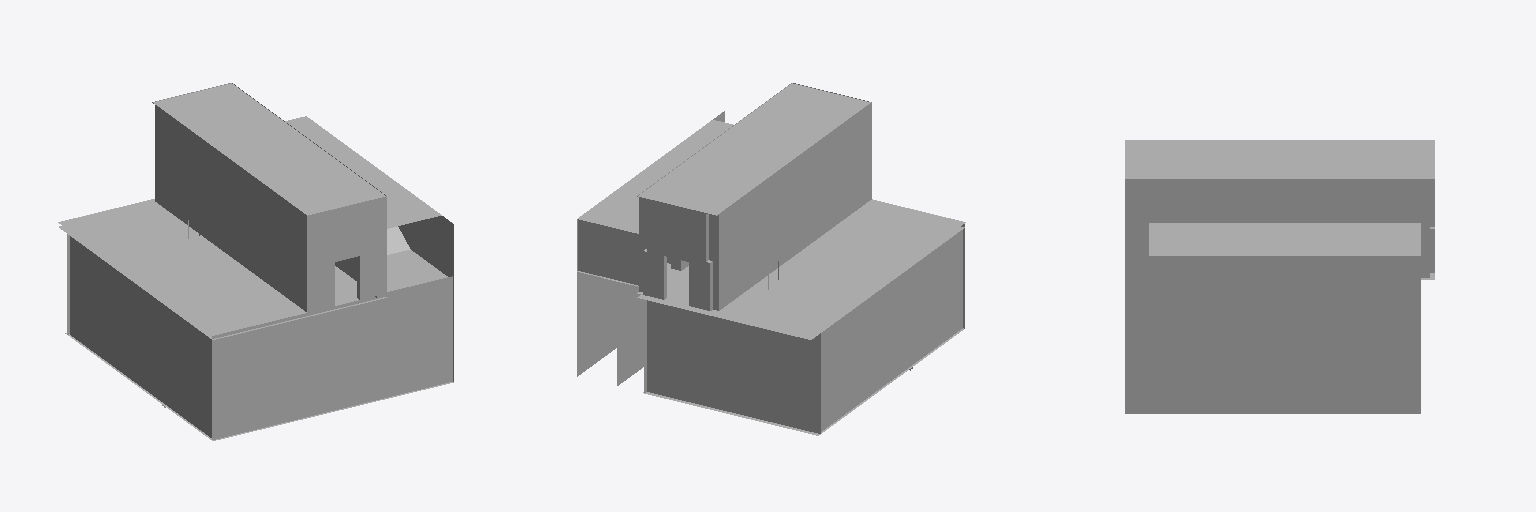
File: LC_cont2_012.obj
The picture shows the model from 3 angles: view 1: azimuth 30°, elevation 25°; view 2: azimuth 150°, elevation 25°; view 3: azimuth 270°, elevation 25°; orthographic projection.
Parts seen in each view (by area): view 1: grp3, grp1, grp11, grp15; view 2: grp3, grp1, grp11, grp4, grp15; view 3: grp3, grp1, grp11.
Part boxes in pixels (left/top/right/bottom): grp3: left=59, top=216, right=453, bottom=439; grp1: left=58, top=83, right=447, bottom=335; grp11: left=155, top=86, right=386, bottom=312; grp15: left=65, top=333, right=453, bottom=440; grp3: left=577, top=111, right=964, bottom=433; grp1: left=577, top=83, right=965, bottom=335; grp11: left=639, top=84, right=871, bottom=310; grp4: left=578, top=219, right=912, bottom=368; grp15: left=643, top=328, right=963, bottom=435; grp3: left=1125, top=256, right=1434, bottom=413; grp1: left=1125, top=140, right=1434, bottom=275; grp11: left=1125, top=140, right=1434, bottom=277.
Bounding box in the file's own units: 1840 × 1508 × 2048.